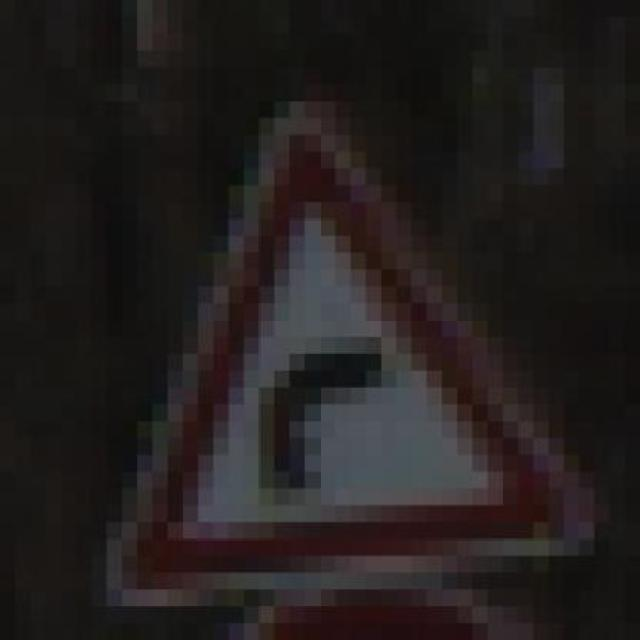Dangerous Rright Curve Ahead: (107, 101, 579, 590)
